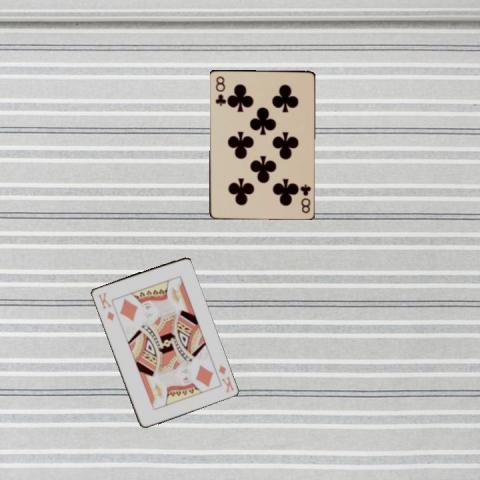8c: (297, 181, 312, 215), (212, 73, 225, 107)
Kd: (95, 289, 115, 323), (216, 361, 236, 394)
